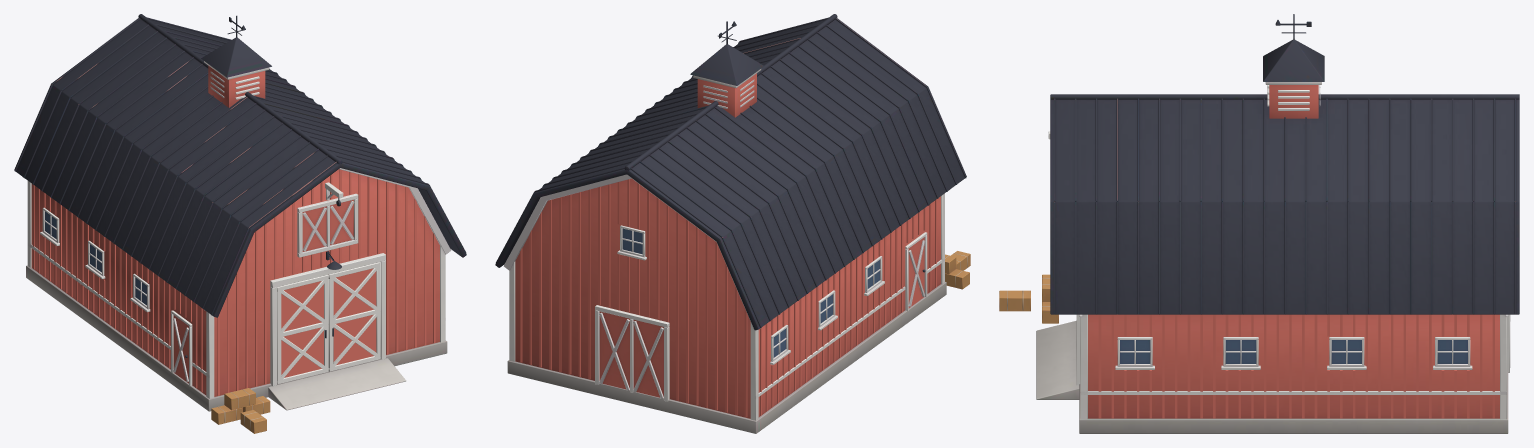
The model's file is barn.glb.
3 renders of one model, left to right at view 1: azimuth 30°, elevation 25°; view 2: azimuth 150°, elevation 25°; view 3: azimuth 270°, elevation 25°, orthographic. The views are drawn at different scales.
Parts seen in each view (by area): view 1: barn_body, barn_trim, barn_battens, barn_barn_door_right, barn_barn_door_left; view 2: barn_body, barn_battens, barn_trim; view 3: barn_body, barn_trim, barn_battens.
Part boxes in pixels (x1,y1,x2,y2): barn_body: (14,14,466,411); barn_trim: (22,15,451,433); barn_battens: (32,169,435,395); barn_barn_door_right: (328,262,380,371); barn_barn_door_left: (277,275,328,384); barn_body: (495,14,966,433); barn_battens: (520,179,936,417); barn_trim: (503,21,970,420); barn_body: (1036,40,1519,433); barn_trim: (999,14,1510,419); barn_battens: (1098,314,1494,418).
Size of the model in its own units: 9.79 by 11 by 14.75.
9 materials, 2 textured.
